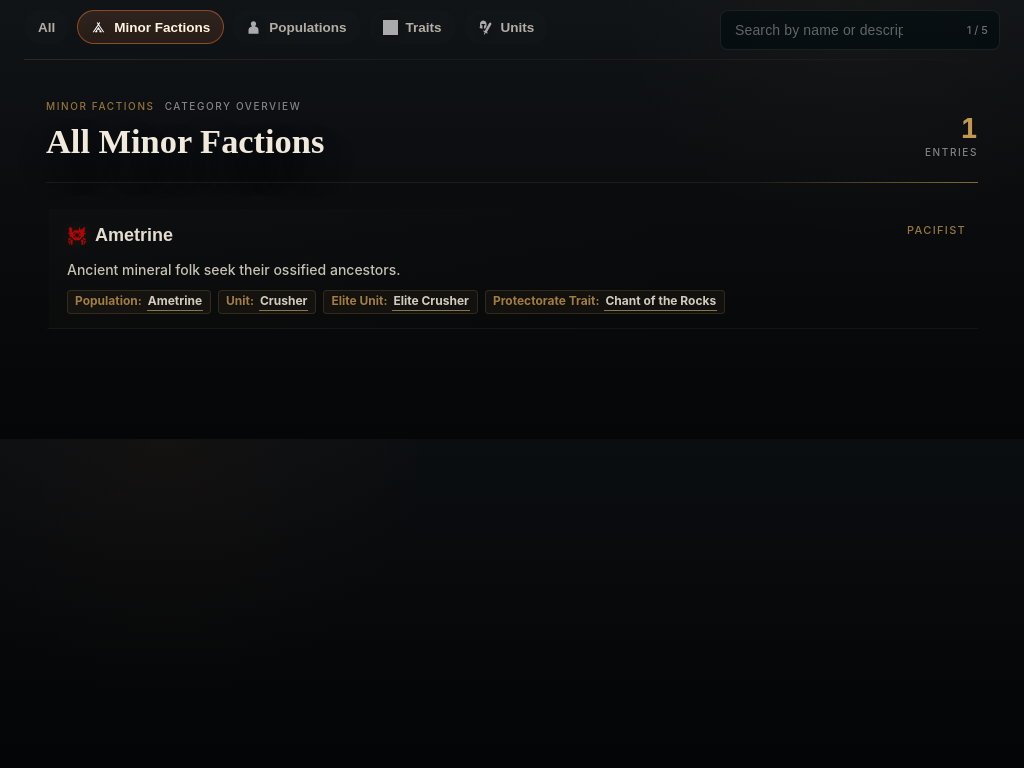
Test case: CodexPage faction details › uses a full-width Minor Faction overview with disposition, identity, and linked unit hooks
Check: the heading "All Minor Factions" is shown, box top-left (46, 124), bottom-right (324, 158)
Check: the picture with class "codex-kindIcon--summaryResource" is shown, box top-left (67, 226), bottom-right (87, 246)
Hover over the button with aria-label "Open Crusher in Codex".
mouse_move(284, 302)  # box top-left (259, 293), bottom-right (308, 311)
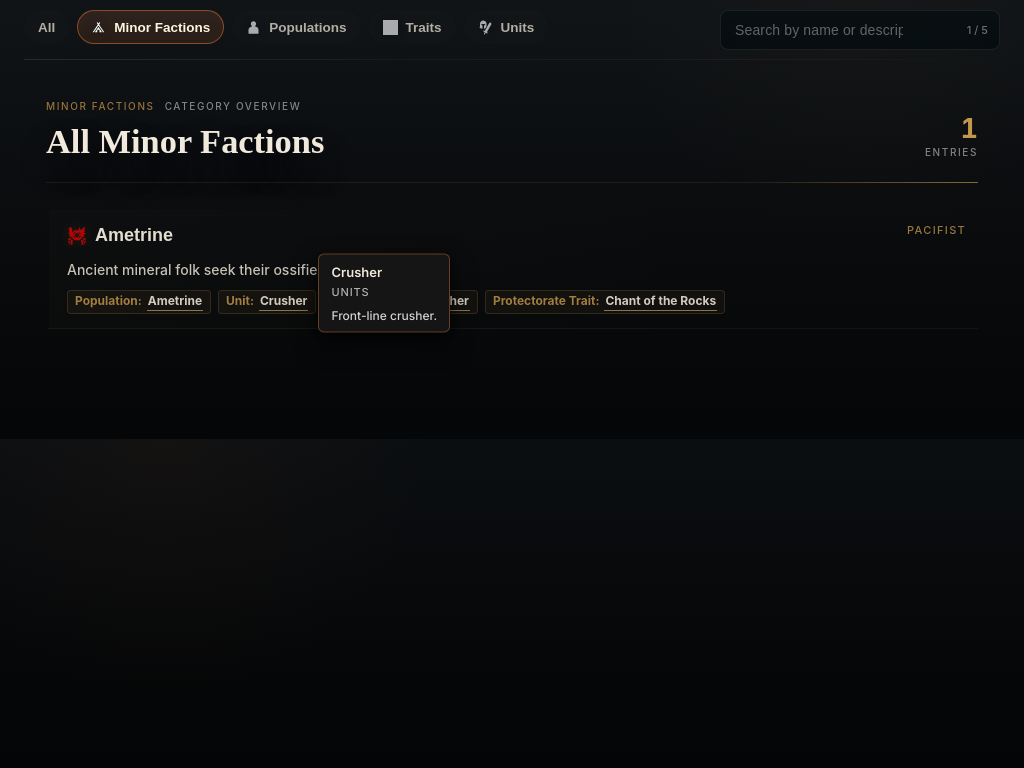
Check: the tooltip shows "Crusher", box top-left (331, 264), bottom-right (382, 280)
Check: the tooltip shows "Front-line crusher.", box top-left (331, 307), bottom-right (437, 322)
